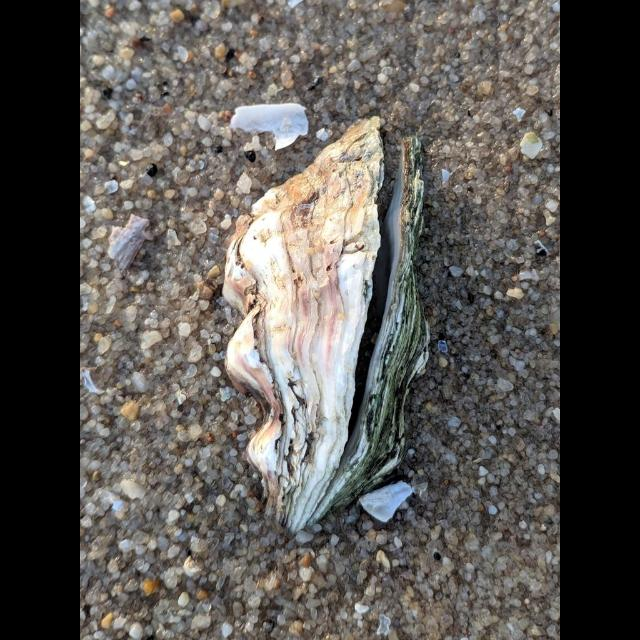Oyster-Open: (220, 113, 432, 533)
